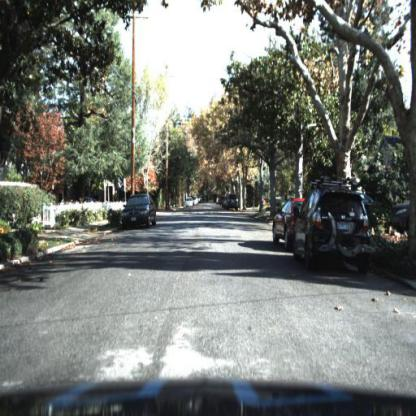car: (293, 183, 375, 279), (271, 194, 302, 250), (388, 186, 416, 236), (271, 195, 294, 255), (124, 193, 158, 229), (226, 194, 242, 210)
